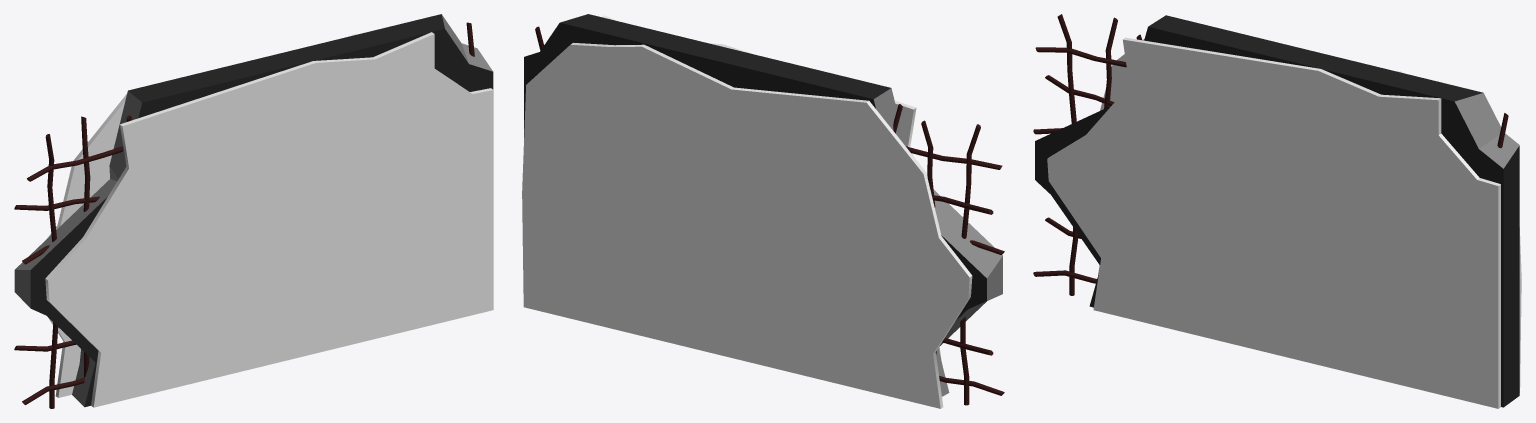
The model's file is P_TestPlaco1.FBX.
3 views of the same model, side by side, from view 1: azimuth 30°, elevation 25°; view 2: azimuth 150°, elevation 25°; view 3: azimuth 330°, elevation 25° (orthographic).
Parts seen in each view (by area): view 1: Box010_Part_026; view 2: Box010_Part_026; view 3: Box010_Part_026.
Part boxes in pixels (box(x1,y1,x2,y2)): Box010_Part_026: box(14, 14, 493, 408); Box010_Part_026: box(522, 14, 1004, 408); Box010_Part_026: box(1033, 14, 1521, 408).
Size of the model in its own units: 505 by 39.99 by 300.
